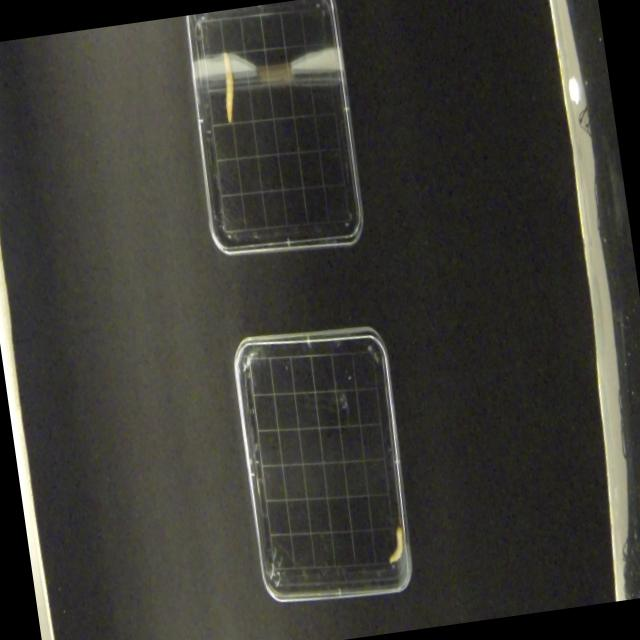larva: (213, 43, 245, 127), (382, 522, 408, 570)
